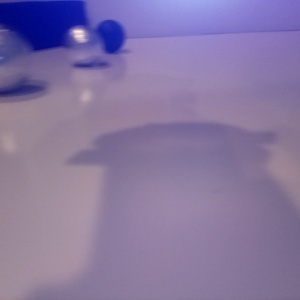alive_ball: (1, 23, 32, 91), (65, 25, 104, 65)
dead_ball: (94, 18, 126, 52)
